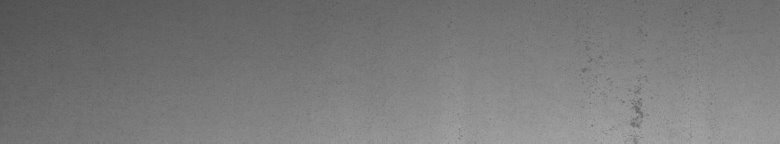ib: (582, 60, 653, 136)
